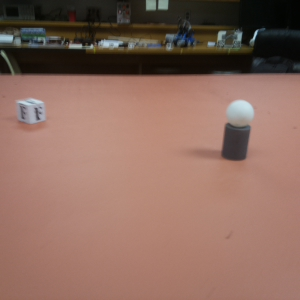blockF: (17, 98, 45, 124)
obstacle: (221, 100, 254, 162)
